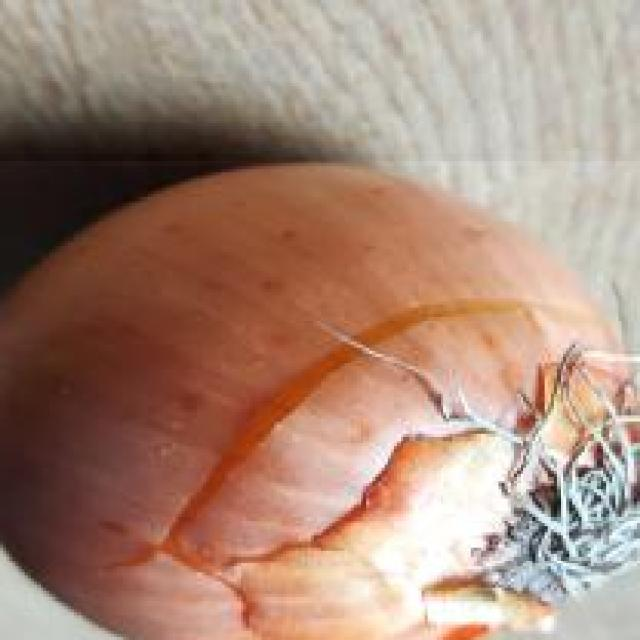onion: (0, 160, 640, 640)
